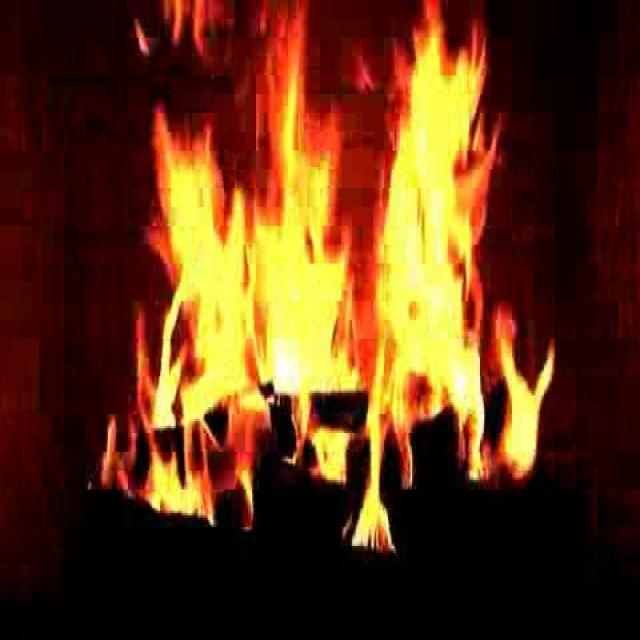fire: (137, 47, 543, 543)
